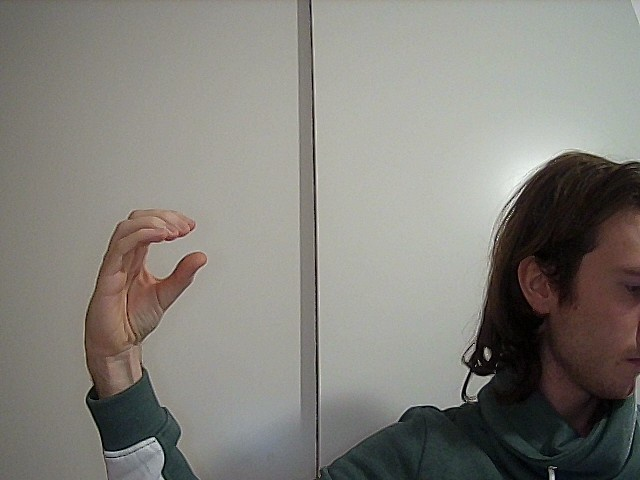c: (61, 202, 220, 357)
